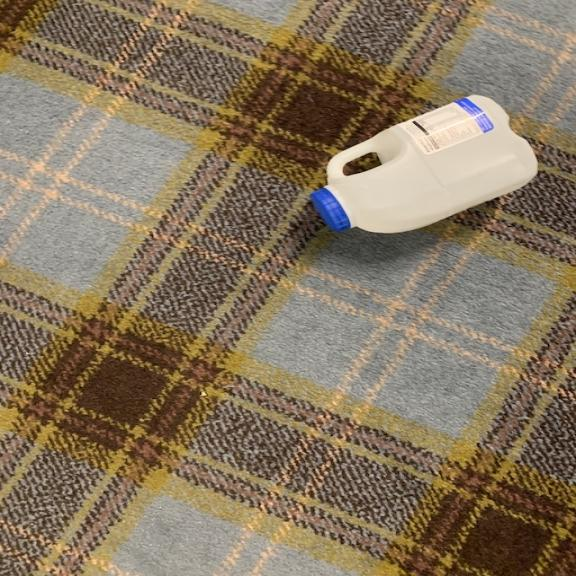Plastik: (306, 94, 543, 240)
